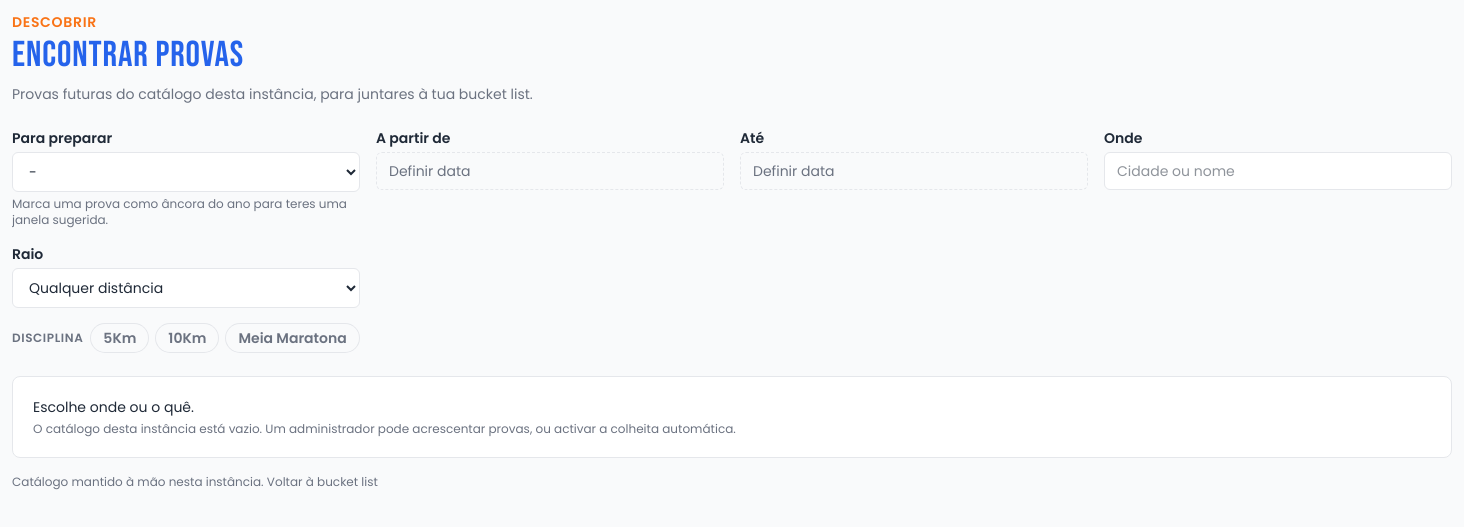
Test: the radius › asks for a location when there is a radius and no centre
Expected: the text "Escolhe onde ou o quê." is shown, [33, 397, 194, 417]
Select "Até 50 km" in the dropdown labelled "Raio" at (186, 288), box [12, 268, 360, 308]
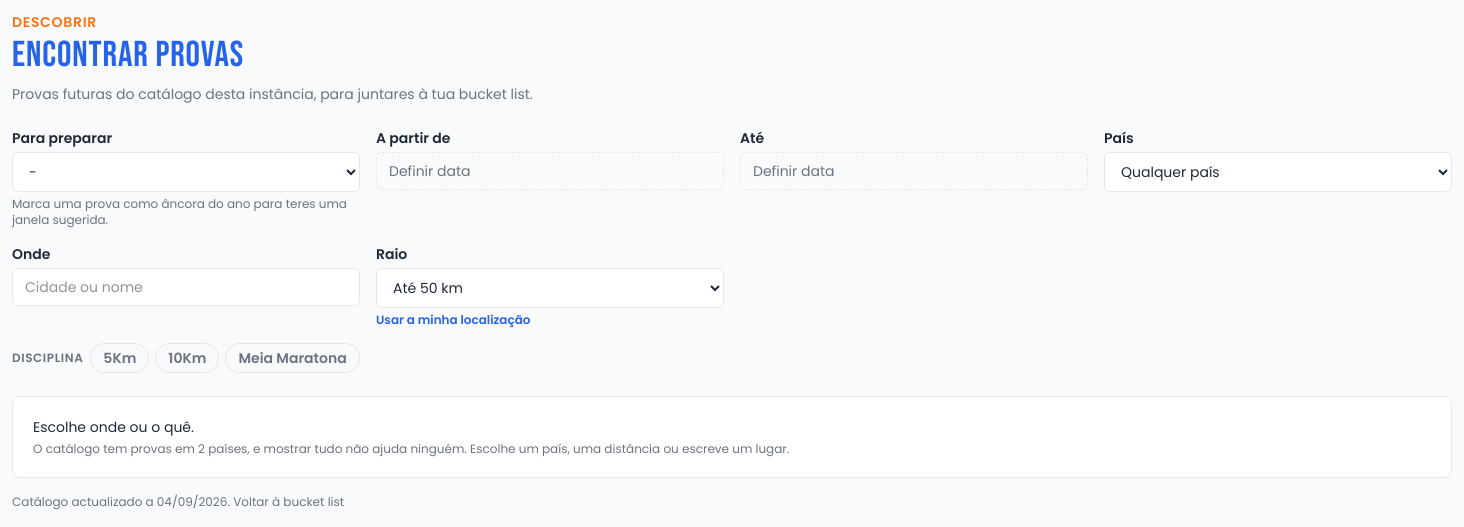
Result: the button "Usar a minha localização" is shown at [376, 312, 530, 328]
